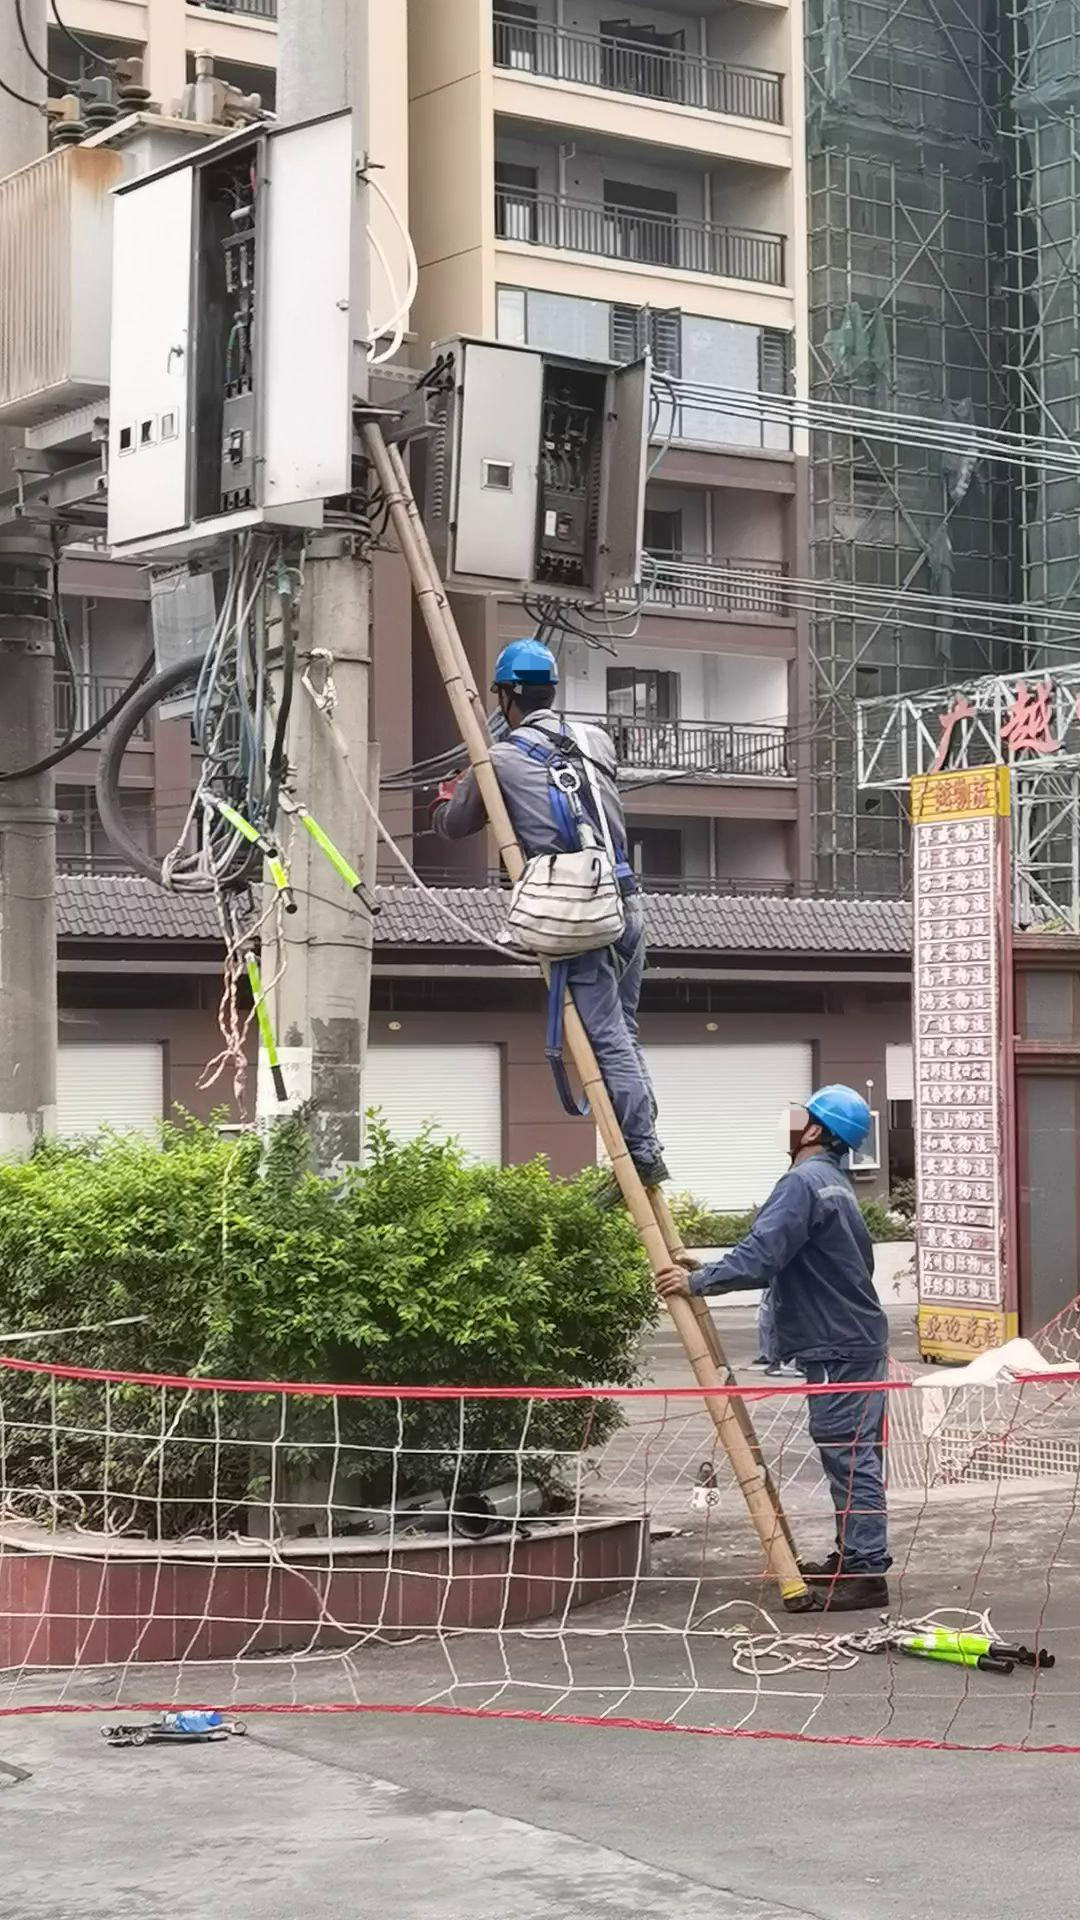halt: (789, 1087, 876, 1160), (492, 642, 562, 716)
inear: (793, 1117, 828, 1158)
